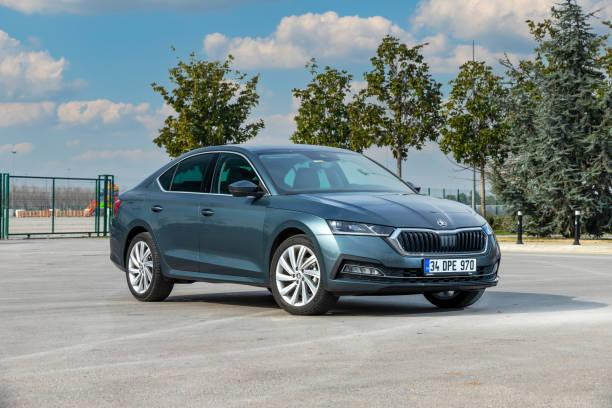skoda: (433, 217, 453, 230)
